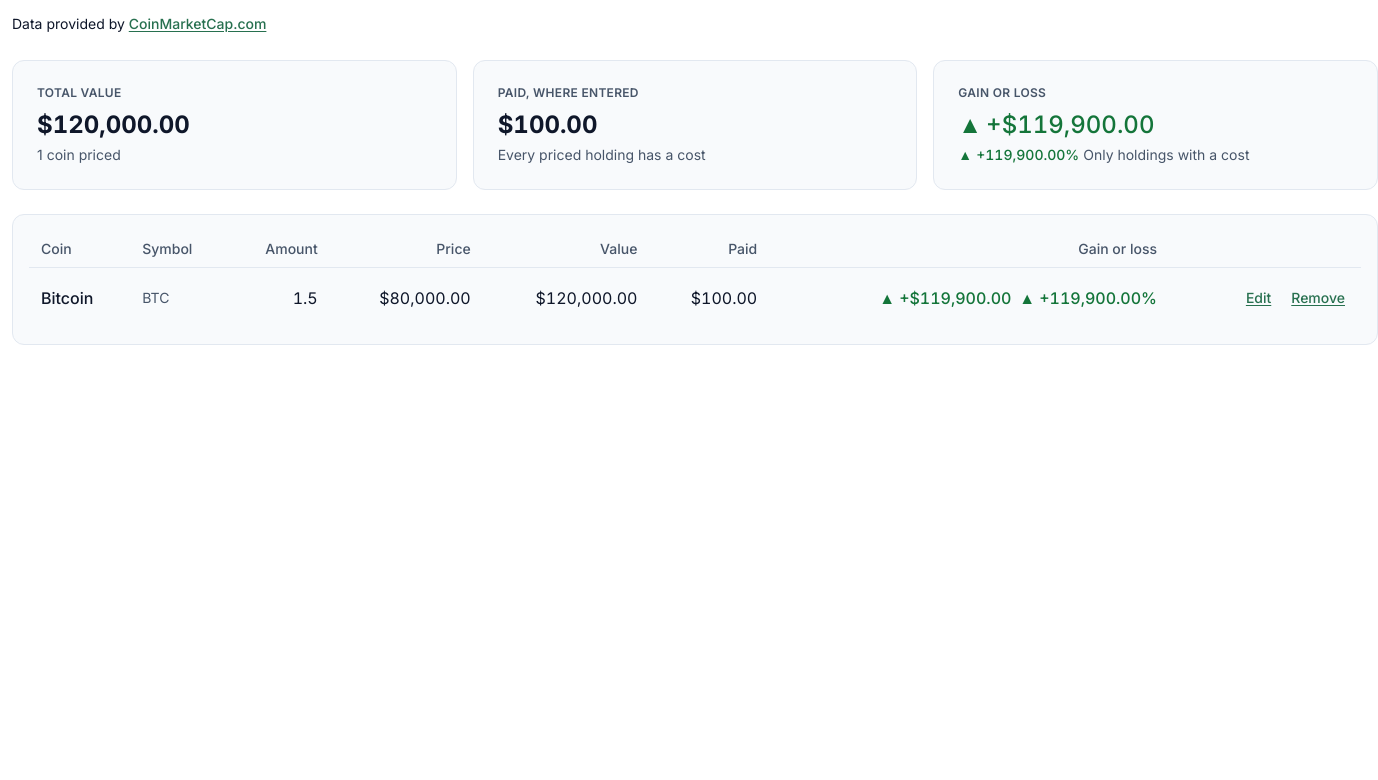
Scenario: PortfolioBody › closes the inline form with Cancel
Click the button named "Edit Bitcoin" at (1259, 298), box 1242,280 -> 1275,316
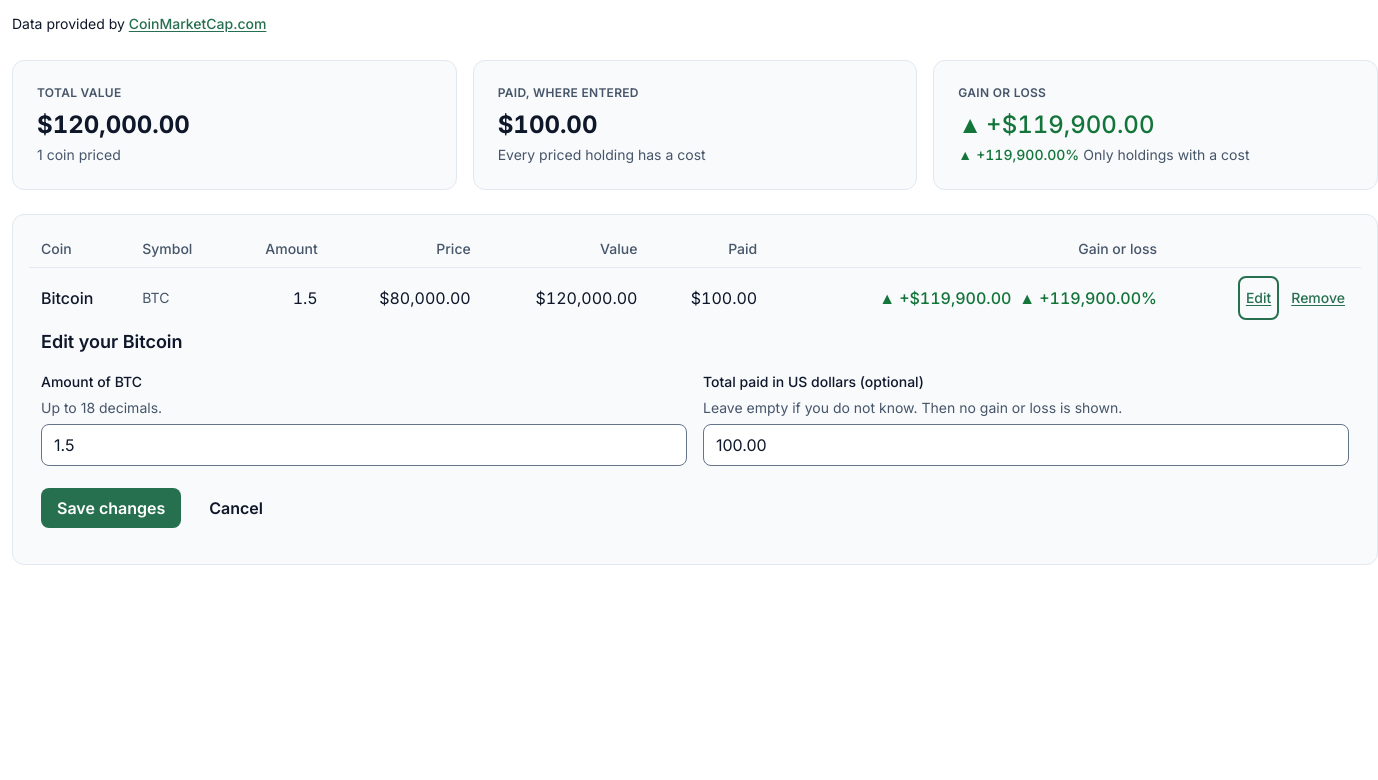
Click the button "Cancel" at (236, 508), box 193,488 -> 279,528
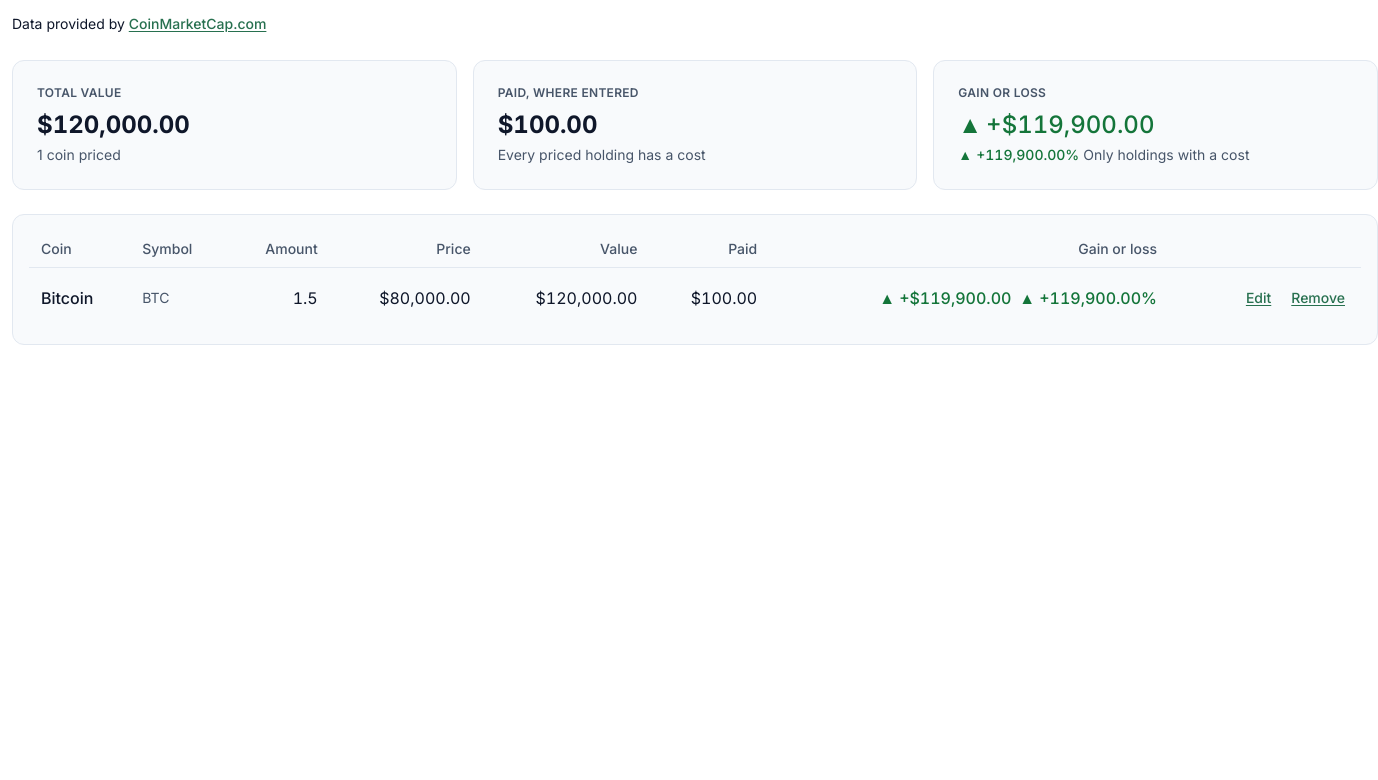
Now the label "Amount of BTC" is gone
